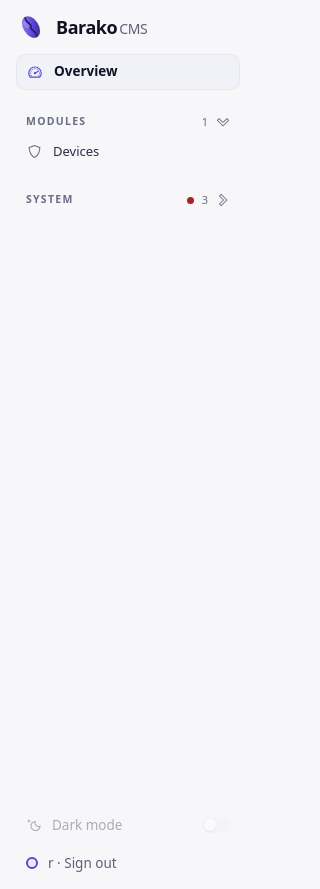
Test: the rail › flags a folded System group in red with the count, and drops the flag when it is open
This screenshot has width=320, height=889.
Click the button "System 3" at (128, 200), box [16, 188, 240, 212]
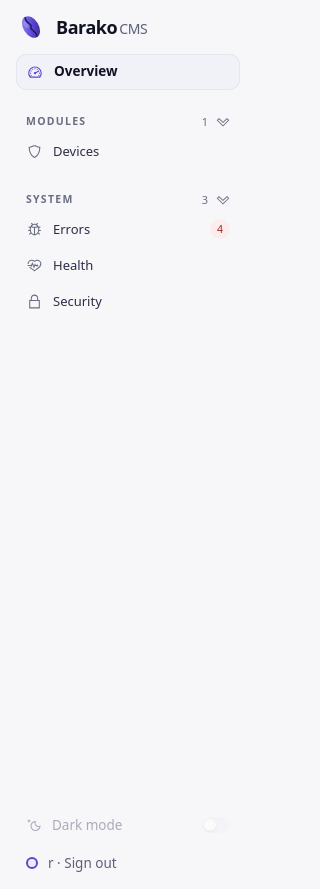
Expected: the text "Needs attention" is not shown
Result: the button "System 3" is expanded at [16, 188, 240, 212]
